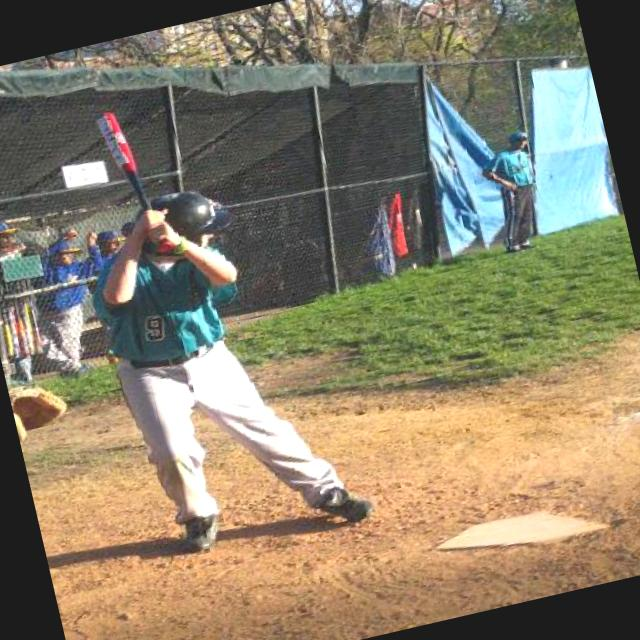Person: (109, 162, 392, 564), (16, 222, 128, 380), (481, 130, 553, 253), (77, 228, 130, 294), (0, 210, 50, 268)
